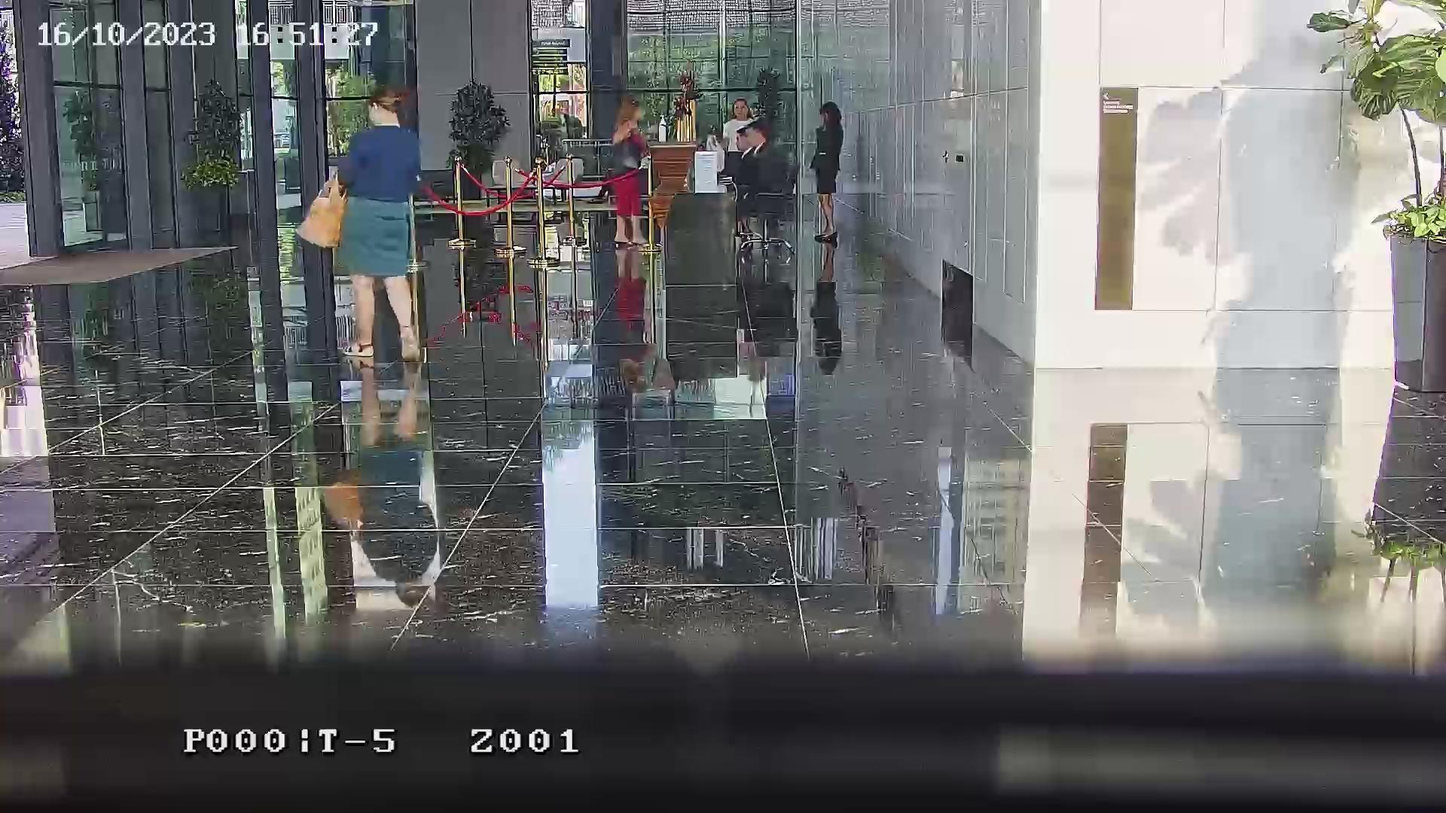person: (334, 81, 425, 394), (602, 96, 649, 246), (810, 102, 843, 243), (740, 120, 787, 194), (721, 98, 754, 151), (733, 126, 756, 184)
